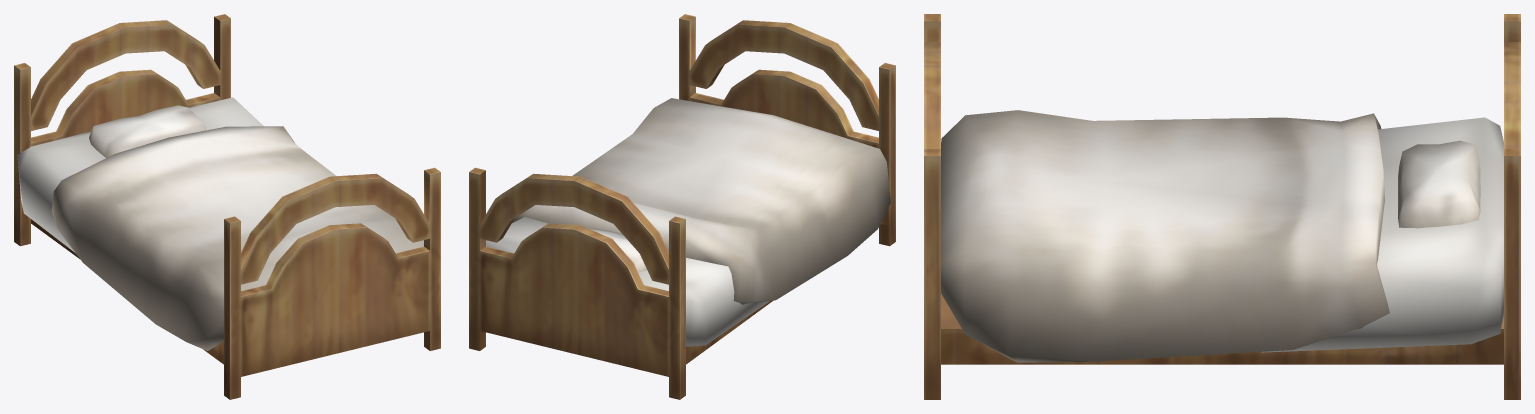
The model's file is CountryBed_HD.fbx.
The picture shows the model from 3 angles, left to right: view 1: azimuth 30°, elevation 25°; view 2: azimuth 150°, elevation 25°; view 3: azimuth 270°, elevation 25°; orthographic projection. The views are drawn at different scales.
Visible parts, largest first — view 1: CountryBed; view 2: CountryBed; view 3: CountryBed.
Boxes of the visible parts, box(x1,y1,x2,y2) form: CountryBed: box(14, 14, 440, 399); CountryBed: box(469, 14, 895, 399); CountryBed: box(924, 14, 1520, 399).
Bounding box in the file's own units: 1.22 × 0.9408 × 1.91.
